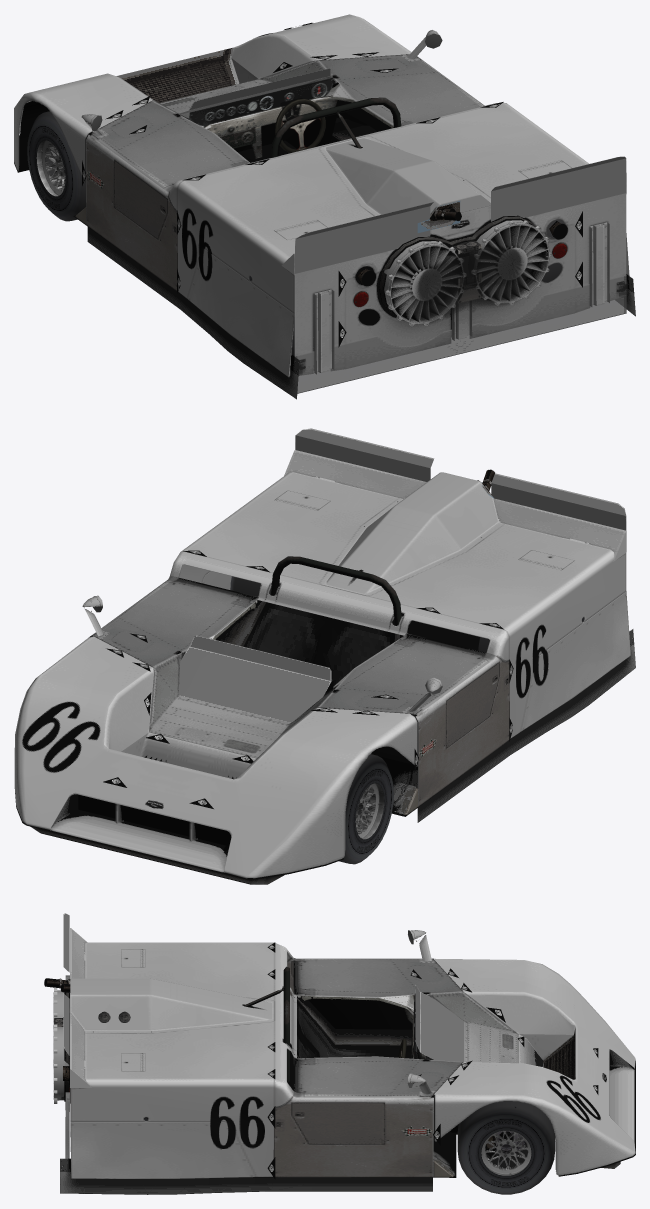
File: GT4_CHAP0002.glb
The picture shows the model from 3 angles, top to bottom: view 1: azimuth 30°, elevation 25°; view 2: azimuth 150°, elevation 25°; view 3: azimuth 270°, elevation 25°; orthographic projection. The views are drawn at different scales.
Visible parts, largest first — view 1: body, tire_front_left, wheel_front_left; view 2: body, tire_front_left, wheel_front_left; view 3: body, tire_front_right, wheel_front_right.
Boxes of the visible parts, x1,y1,x2,y2 form: body: (14,14,635,399); tire_front_left: (27,111,86,221); wheel_front_left: (36,140,65,196); body: (14,428,635,884); tire_front_left: (339,754,393,864); wheel_front_left: (355,783,384,839); body: (44,913,635,1194); tire_front_right: (457,1101,555,1194); wheel_front_right: (481,1130,531,1175).
Size of the model in its own units: 2.1 by 0.9754 by 3.67.
Materials: 50 (50 with a texture image).
